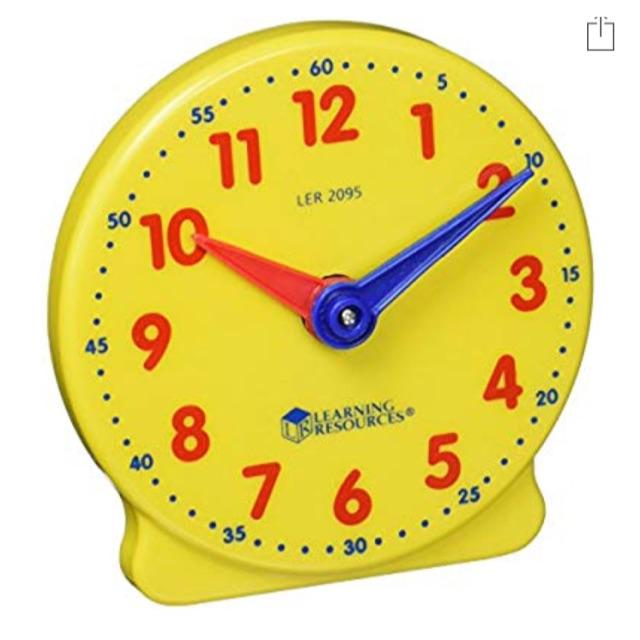clock: (12, 6, 640, 640), (176, 14, 632, 356)
